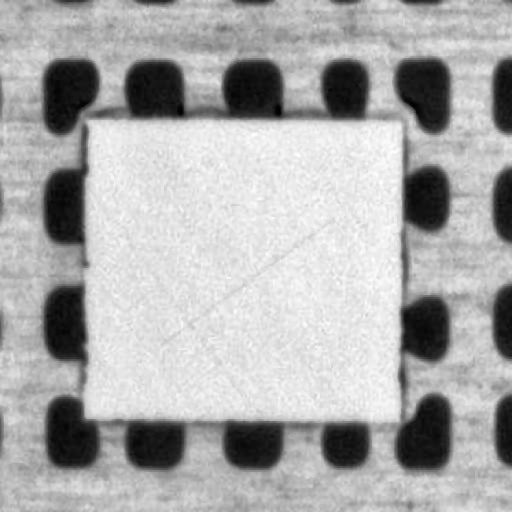DIE_CRACK: (212, 165, 438, 258)
